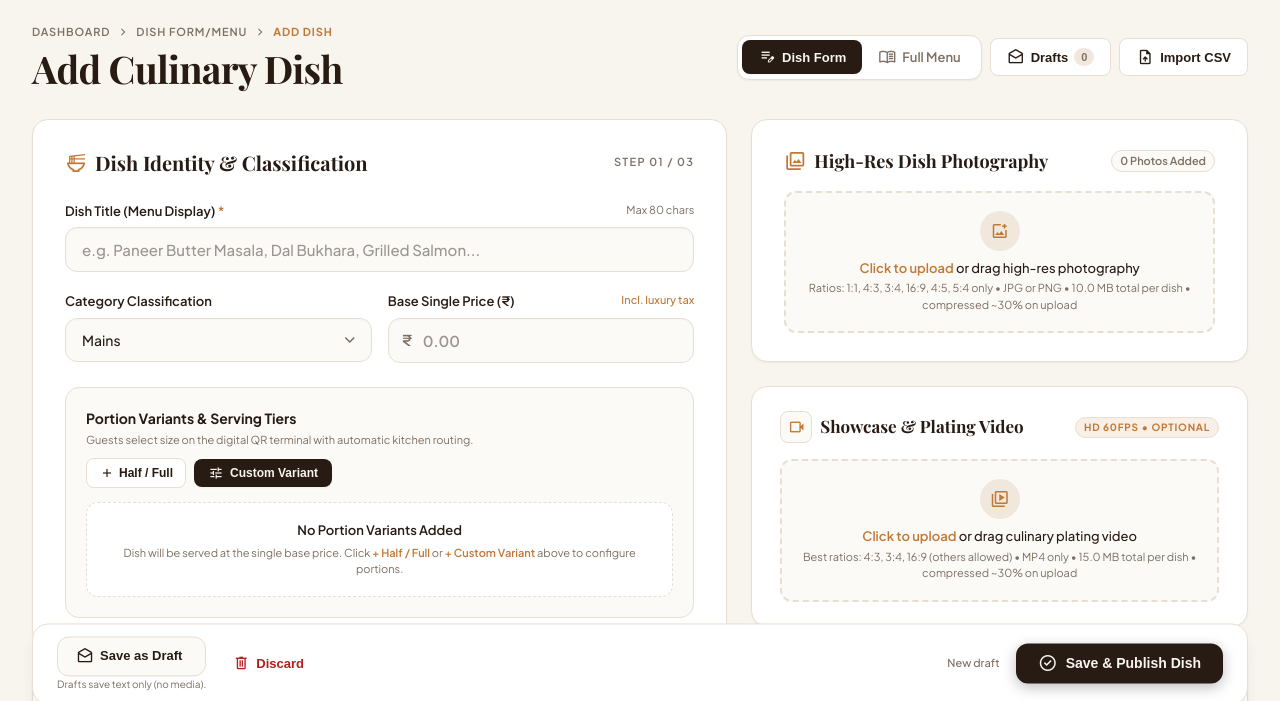
Test: Admin DishForm Suite (TC-ADM-046 to TC-ADM-075) › TC-ADM-052: Toggles custom category input field
Select "Custom / Other…" in the dropdown: x=218, y=340 [65,318,372,362]
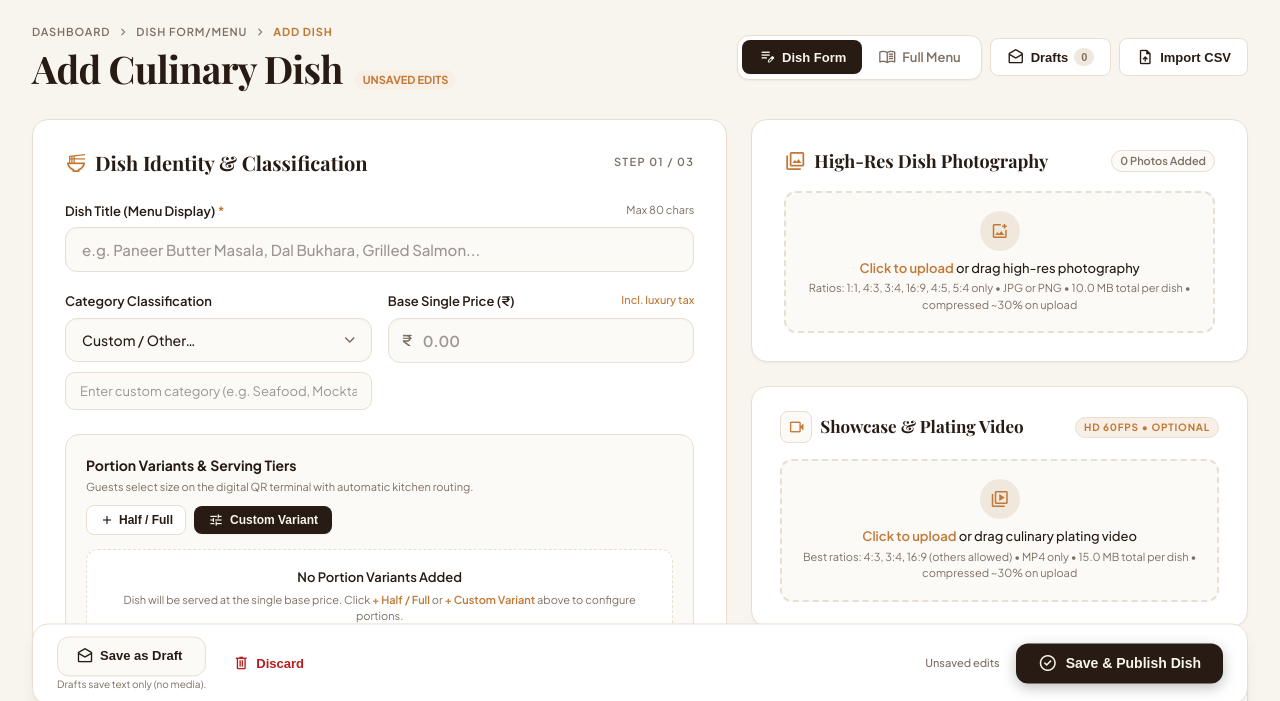
Expected: the field with placeholder "Enter custom category (e.g. Seafood, Mocktails)" is shown, [65,372,372,410]
